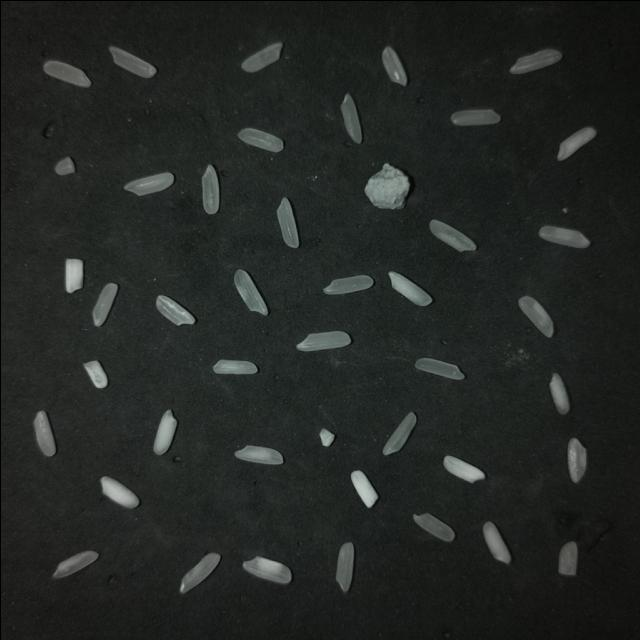broken: (364, 162, 408, 208), (54, 156, 75, 174), (319, 427, 334, 446)
chalky: (179, 552, 220, 592), (387, 271, 431, 305), (234, 269, 267, 314), (517, 295, 553, 336), (242, 556, 291, 583), (509, 48, 561, 73), (557, 126, 595, 160), (52, 550, 98, 577), (100, 476, 138, 507), (482, 521, 510, 563), (156, 294, 194, 324), (124, 172, 173, 195), (538, 225, 589, 247), (443, 455, 484, 481), (350, 469, 377, 507), (296, 331, 350, 350), (153, 409, 176, 453), (234, 444, 283, 463), (549, 372, 569, 413), (567, 437, 585, 481), (83, 360, 107, 387), (64, 258, 83, 292), (557, 541, 576, 575), (212, 359, 256, 373)
whole: (429, 219, 475, 251), (382, 411, 416, 454), (109, 46, 155, 77), (42, 60, 90, 86), (412, 512, 454, 540), (241, 42, 281, 71), (237, 127, 282, 151), (276, 197, 298, 246), (92, 282, 117, 325), (340, 92, 361, 142), (414, 357, 463, 378), (381, 46, 406, 85), (33, 411, 55, 455), (323, 274, 372, 293), (335, 541, 353, 591), (450, 108, 500, 125), (201, 164, 218, 213)
